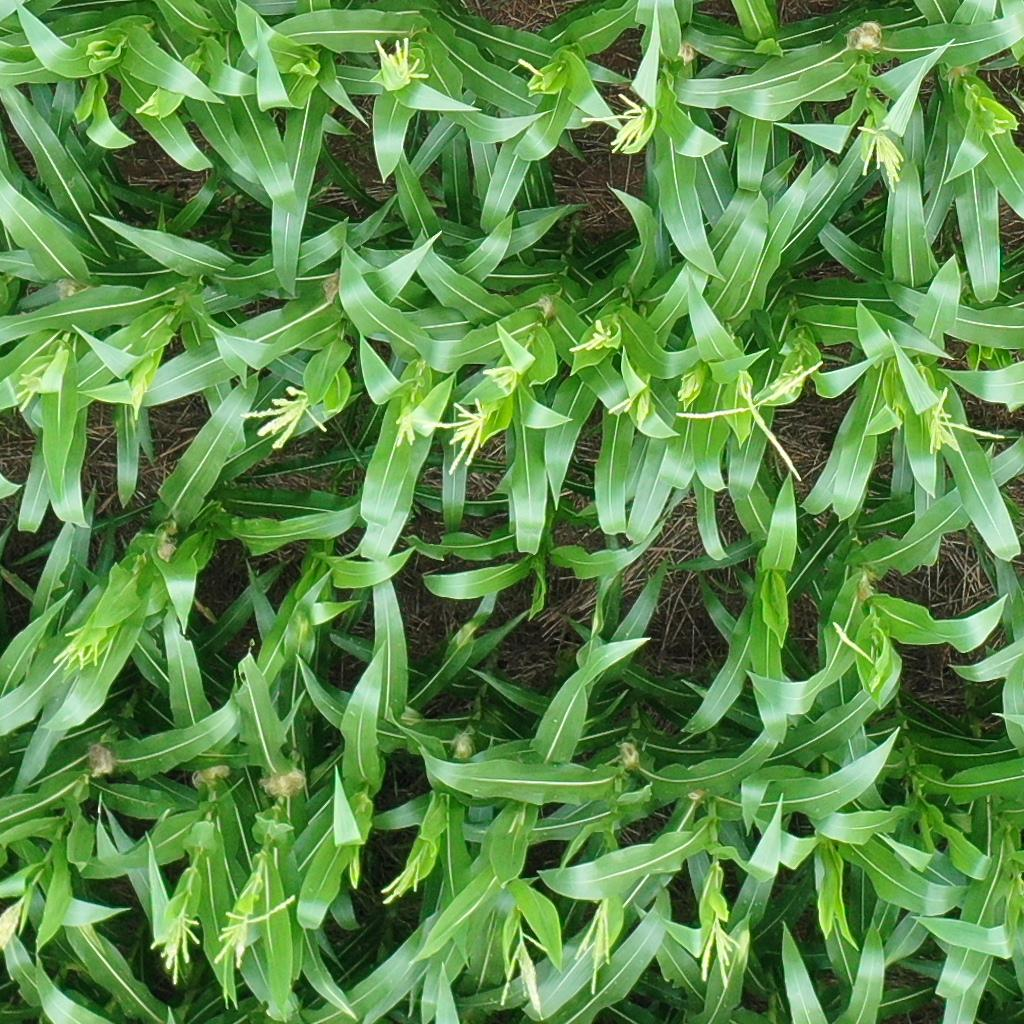Tassel: (677, 356, 826, 487), (213, 894, 299, 972), (235, 384, 327, 452), (922, 384, 1005, 458), (496, 923, 553, 1018), (829, 616, 888, 697), (430, 395, 489, 475), (580, 92, 653, 153), (854, 117, 906, 195), (574, 897, 615, 995), (147, 910, 202, 980), (696, 915, 742, 988), (52, 623, 111, 674), (372, 33, 430, 80), (378, 850, 422, 910), (567, 316, 613, 355), (9, 369, 47, 413), (389, 408, 429, 447), (604, 387, 646, 423), (976, 108, 1013, 143), (482, 362, 521, 394), (1, 893, 21, 951), (518, 56, 548, 92), (676, 372, 704, 406)
